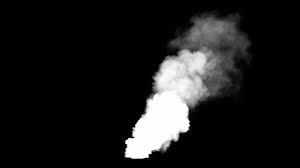smoke: (126, 16, 250, 157)
